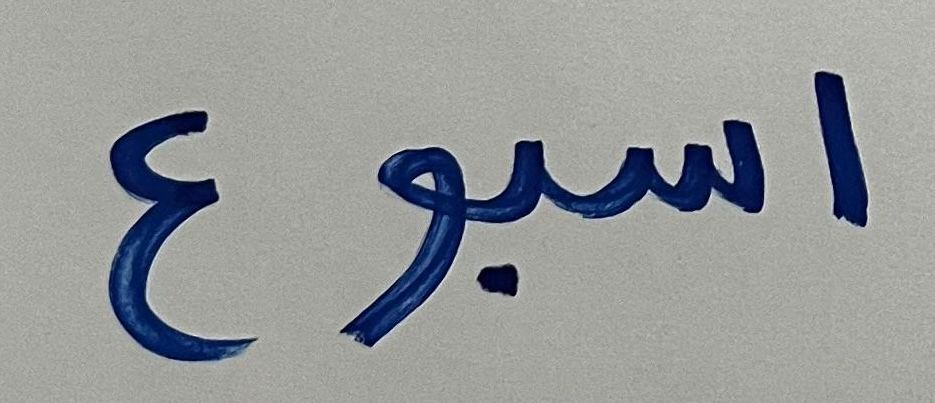ain: (49, 51, 300, 377)
alef: (773, 28, 913, 293)
beh: (472, 79, 559, 344)
seen: (583, 70, 769, 271)
waw: (318, 96, 469, 360)
